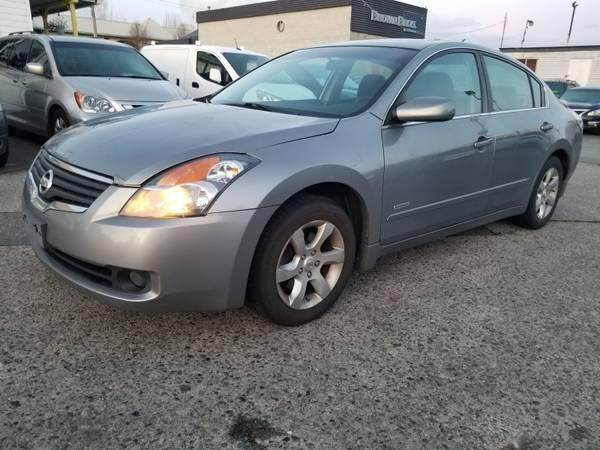Front_Bumper: (17, 186, 277, 318)
Front_Fender: (208, 111, 384, 270)
Front_Left_Door: (383, 110, 497, 255)
Front_Left_Window: (385, 46, 491, 122)
Front_Windshield: (208, 40, 421, 115)
Grille: (27, 148, 112, 212)
Hood: (46, 96, 340, 183)
Left_Headlight: (120, 149, 262, 222)
Rear_Fender: (545, 101, 581, 174)
Rear_Left_Door: (483, 111, 553, 226)
Rear_Left_Window: (483, 53, 547, 111)
Roof: (300, 34, 569, 115)
Wheel: (255, 198, 358, 325), (534, 160, 567, 223)
